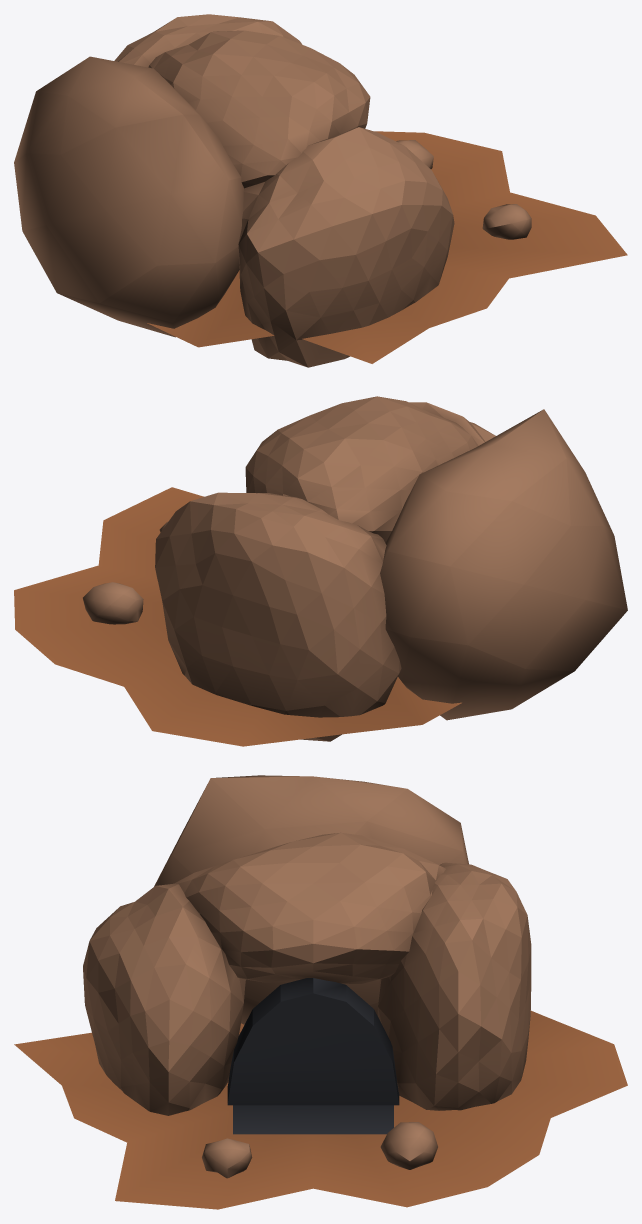
The model's file is poi_cave.glb.
3 renders of one model, top to bottom at view 1: azimuth 30°, elevation 25°; view 2: azimuth 150°, elevation 25°; view 3: azimuth 270°, elevation 25°, orthographic. The views are drawn at different scales.
Parts seen in each view (by area): view 1: Base; view 2: Base; view 3: Base.
Part boxes in pixels (x1,y1,x2,y2): Base: (14, 14, 627, 367); Base: (14, 396, 627, 746); Base: (14, 775, 627, 1209).
Bounding box in the file's own units: 11.48 × 5.25 × 11.44.
